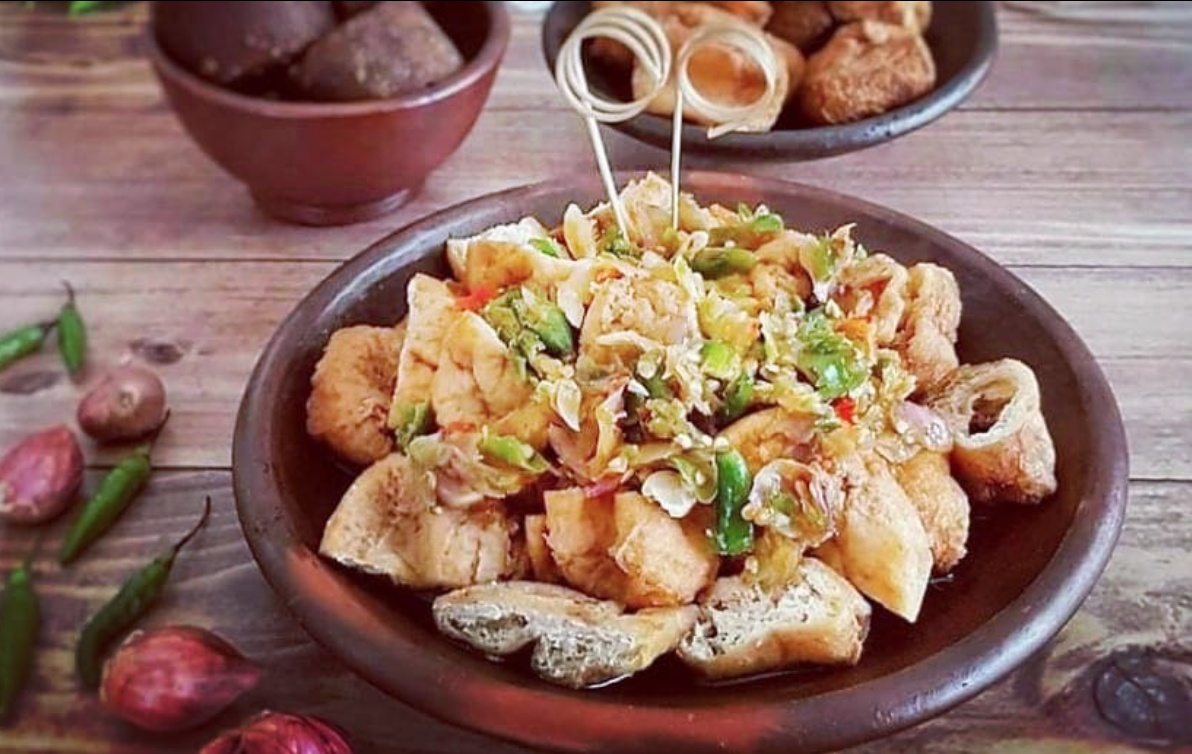tahu_gejrot: (299, 169, 1059, 691)
